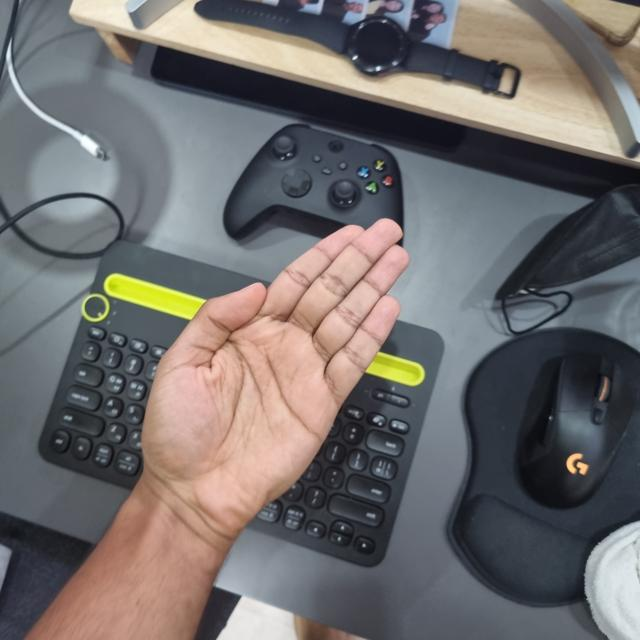Paper: (142, 222, 408, 512)
